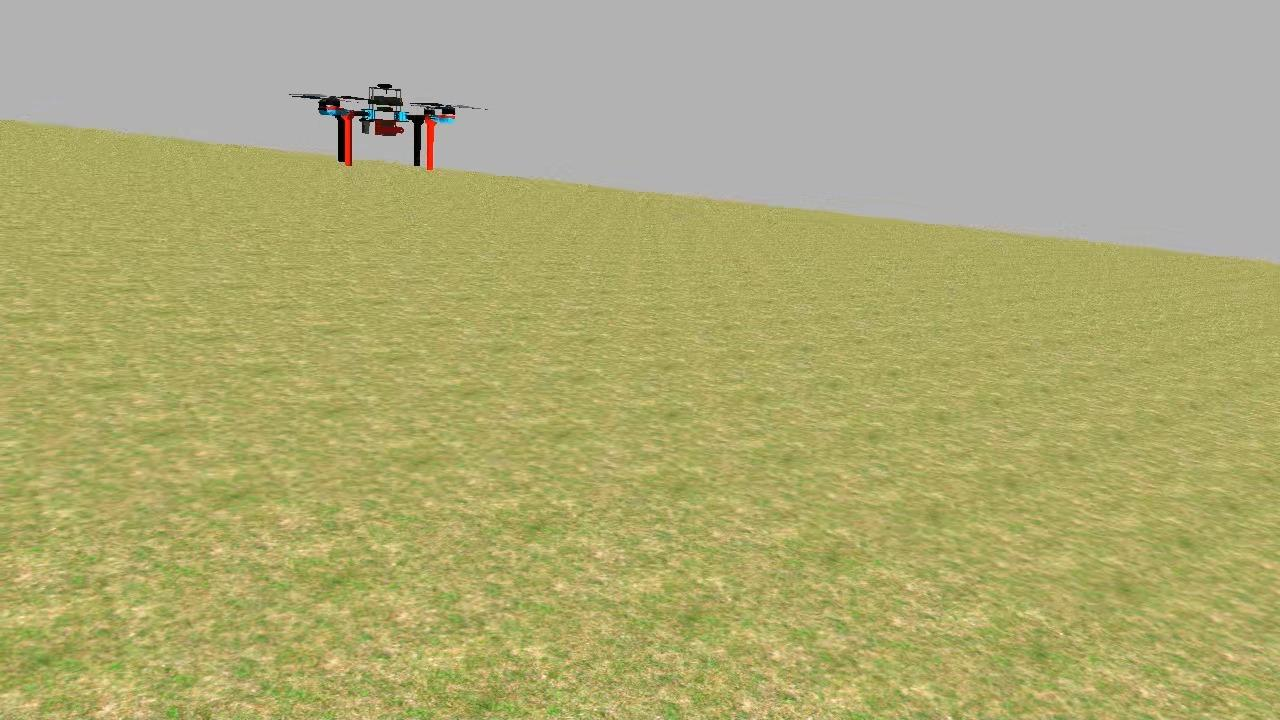UAV: (310, 78, 460, 176)
